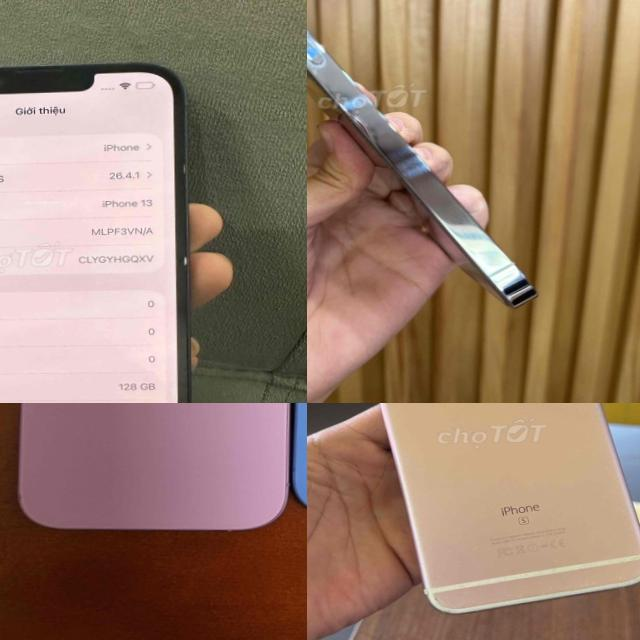gen_12_13: (0, 60, 194, 403)
gen_14: (307, 0, 549, 325)
gen_16: (4, 403, 296, 543)
gen_6: (349, 403, 640, 623)
scratch: (420, 585, 495, 629), (621, 546, 640, 598)
